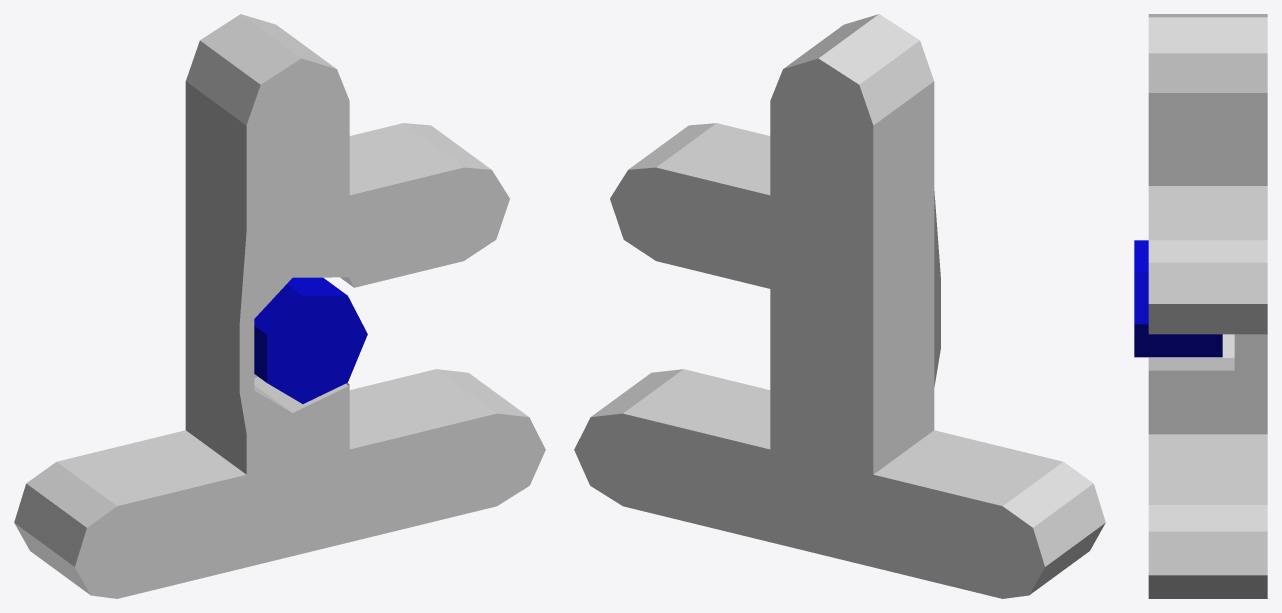
Rendered from Ch_Lite_China_上_01.fbx.
3 renders of one model, left to right at view 1: azimuth 30°, elevation 25°; view 2: azimuth 150°, elevation 25°; view 3: azimuth 270°, elevation 25°, orthographic. The views are drawn at different scales.
Parts seen in each view (by area): view 1: sphere1; view 2: sphere1; view 3: sphere1.
Boxes of the visible parts, x1,y1,x2,y2 form: sphere1: [14, 14, 545, 598]; sphere1: [574, 14, 1105, 598]; sphere1: [1134, 14, 1267, 598].
Size of the model in its own units: 0.895 by 0.8999 by 0.2242.
